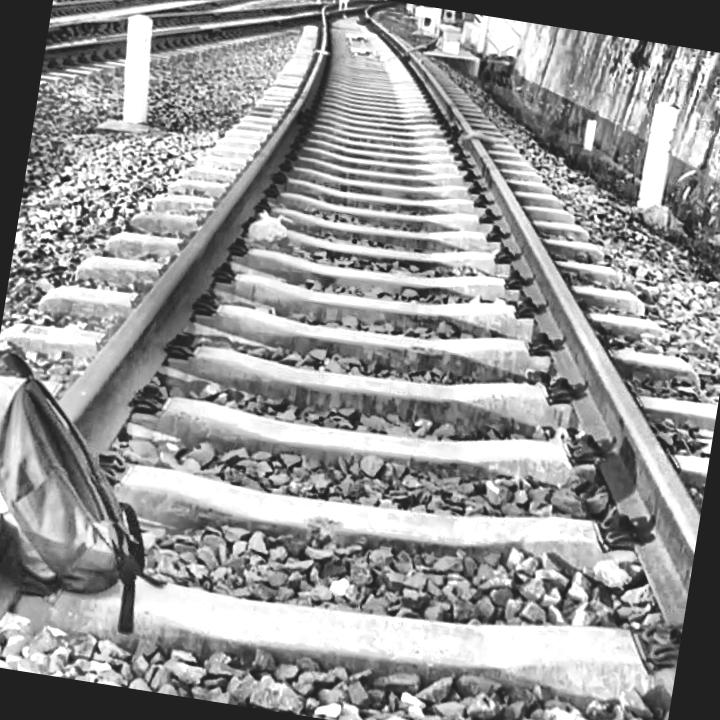Trash: (0, 339, 218, 653), (238, 197, 312, 259), (448, 120, 507, 164)
